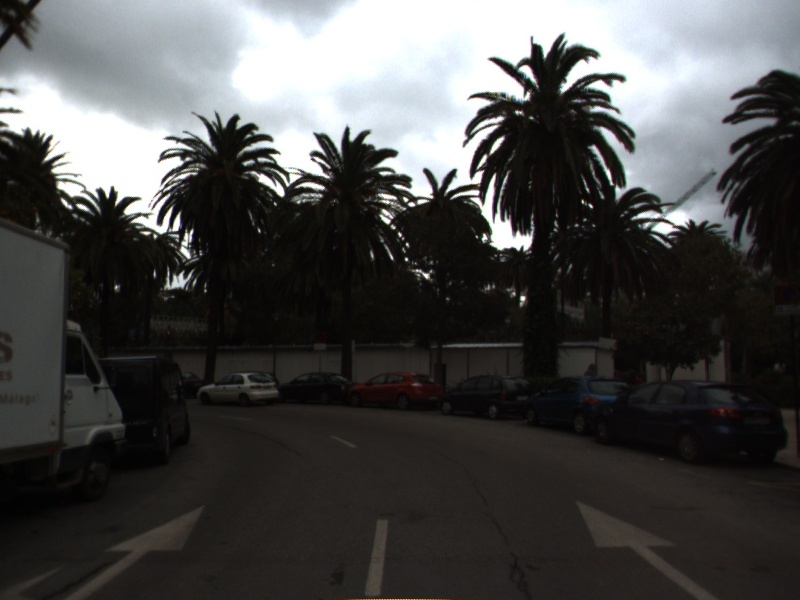STRAIGHT: (574, 499, 722, 600), (54, 503, 207, 600)
